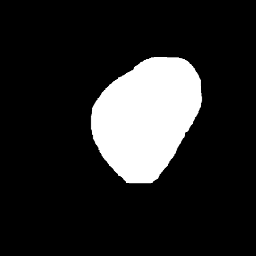mass: (90, 80, 183, 199)
